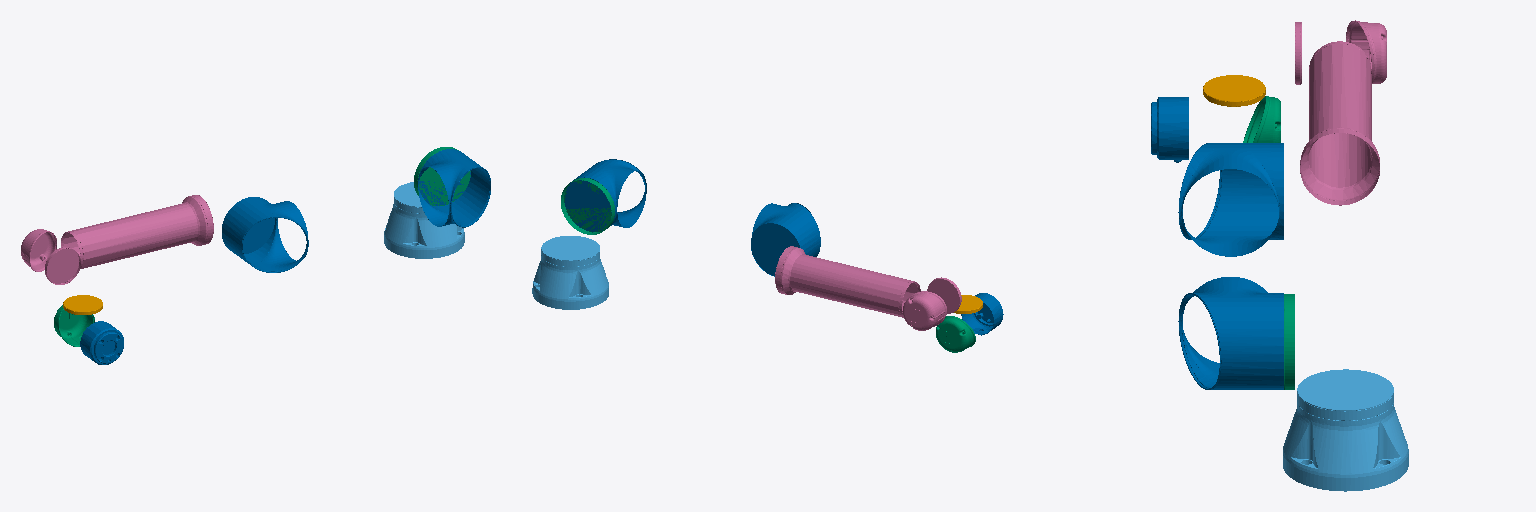
URDF robot description (converted_robot):
<?xml version="1.0" ?>
<robot name="converted_robot">
   <!--generated with mjcf_urdf_simple_converter (https://github.com/Yasu31/mjcf_urdf_simple_converter)-->
   <link name="world">
      <inertial>
         <origin xyz="0.0 0.0 0.0" rpy="0.0 0.0 0.0"/>
         <mass value="0.0"/>
         <inertia ixx="0.0" iyy="0.0" izz="0.0" ixy="0" ixz="0" iyz="0"/>
      </inertial>
   </link>
   <link name="base">
      <inertial>
         <origin xyz="0.0 0.0 0.0" rpy="0.0 0.0 0.0"/>
         <mass value="4.0"/>
         <inertia ixx="0.00443333156" iyy="0.00443333156" izz="0.0072" ixy="0" ixz="0" iyz="0"/>
      </inertial>
      <visual name="base_0">
         <origin xyz="6.729318621181485e-07 -3.6596373548373673e-07 0.09357351429819695" rpy="-1.5707963267948966 -1.5707857113515709 3.141592653589793"/>
         <geometry>
            <mesh filename="meshes/base_0.obj"/>
         </geometry>
      </visual>
      <visual name="base_1">
         <origin xyz="1.503945707798981e-07 5.030274644771805e-07 0.03113409206125086" rpy="-1.399528539771004 -1.5707749404564806 -1.0870925788402255"/>
         <geometry>
            <mesh filename="meshes/base_1.obj"/>
         </geometry>
      </visual>
   </link>
   <joint type="fixed" name="world2base_fixed">
      <parent link="world"/>
      <child link="base"/>
      <origin xyz="0.0 0.0 0.0" rpy="0.0 0.0 3.141592653589793"/>
   </joint>
   <link name="shoulder_link">
      <inertial>
         <origin xyz="0.0 0.0 0.0" rpy="0.0 0.0 0.0"/>
         <mass value="3.7"/>
         <inertia ixx="0.0102675" iyy="0.0102675" izz="0.00666" ixy="0" ixz="0" iyz="0"/>
      </inertial>
      <visual name="shoulder_0">
         <origin xyz="0.0001579198071144923 -0.008422927154951222 0.04825544244212041" rpy="2.9720573015818483 -1.2403403911528637 -1.566448043192206"/>
         <geometry>
            <mesh filename="meshes/shoulder_0.obj"/>
         </geometry>
      </visual>
      <visual name="shoulder_1">
         <origin xyz="1.0217402531697843e-06 0.06888462521467517 -0.000503284068890808" rpy="0.16995490760307885 -1.5623390598795694e-05 1.5708061595614313"/>
         <geometry>
            <mesh filename="meshes/shoulder_1.obj"/>
         </geometry>
      </visual>
      <visual name="shoulder_2">
         <origin xyz="-4.987106654918215e-05 0.0005636150374333556 -0.01875771782384345" rpy="1.6252859977178944 0.74319992894974 1.5734657987361387"/>
         <geometry>
            <mesh filename="meshes/shoulder_2.obj"/>
         </geometry>
      </visual>
   </link>
   <link name="shoulder_pan_joint_jointbody">
      <inertial>
         <origin xyz="0.0 0.0 0.0" rpy="0.0 0.0 0.0"/>
         <mass value="0.001"/>
         <inertia ixx="1e-09" iyy="1e-09" izz="1e-09" ixy="0" ixz="0" iyz="0"/>
      </inertial>
   </link>
   <joint type="revolute" name="shoulder_pan_joint">
      <parent link="base"/>
      <child link="shoulder_pan_joint_jointbody"/>
      <origin xyz="0.0 0.0 0.163" rpy="0.0 0.0 0.0"/>
      <axis xyz="0.0 0.0 1.0"/>
      <limit lower="-6.28319" upper="6.28319" effort="100" velocity="100"/>
   </joint>
   <joint type="fixed" name="shoulder_pan_joint_offset">
      <parent link="shoulder_pan_joint_jointbody"/>
      <child link="shoulder_link"/>
      <origin xyz="-0.0 -0.0 -0.0" rpy="0.0 0.0 0.0"/>
   </joint>
   <link name="upper_arm_link">
      <inertial>
         <origin xyz="0.0 0.0 0.2125" rpy="0.0 0.0 0.0"/>
         <mass value="8.393"/>
         <inertia ixx="0.133886" iyy="0.133886" izz="0.0151074" ixy="0" ixz="0" iyz="0"/>
      </inertial>
      <visual name="upperarm_0">
         <origin xyz="-3.5760986999942557e-06 -0.00019999979744521934 0.2121351784520985" rpy="-0.00033054302069512875 -1.4933708105679955e-06 -0.35514353174096286"/>
         <geometry>
            <mesh filename="meshes/upperarm_0.obj"/>
         </geometry>
      </visual>
      <visual name="upperarm_1">
         <origin xyz="-7.532369564797005e-07 -0.02455902448126744 0.29812745654549255" rpy="0.17716174242397165 7.967832782251882e-05 -0.00048191154196722263"/>
         <geometry>
            <mesh filename="meshes/upperarm_1.obj"/>
         </geometry>
      </visual>
      <visual name="upperarm_2">
         <origin xyz="1.2475330963946302e-05 -0.020613766332852907 0.21354779205990887" rpy="-4.279076197777343e-05 -0.00939633188786626 1.5726071086918691"/>
         <geometry>
            <mesh filename="meshes/upperarm_2.obj"/>
         </geometry>
      </visual>
      <visual name="upperarm_3">
         <origin xyz="-1.6738822332805943e-05 0.04530972332900902 0.21224046110461658" rpy="-1.1169861401483239e-05 -0.00033473145213402944 1.5712747113366192"/>
         <geometry>
            <mesh filename="meshes/upperarm_3.obj"/>
         </geometry>
      </visual>
   </link>
   <link name="shoulder_lift_joint_jointbody">
      <inertial>
         <origin xyz="0.0 0.0 0.0" rpy="0.0 0.0 0.0"/>
         <mass value="0.001"/>
         <inertia ixx="1e-09" iyy="1e-09" izz="1e-09" ixy="0" ixz="0" iyz="0"/>
      </inertial>
   </link>
   <joint type="revolute" name="shoulder_lift_joint">
      <parent link="shoulder_link"/>
      <child link="shoulder_lift_joint_jointbody"/>
      <origin xyz="0.0 0.138 0.0" rpy="-0.0 1.5707963267948966 0.0"/>
      <axis xyz="0.0 1.0 0.0"/>
      <limit lower="-6.28319" upper="6.28319" effort="100" velocity="100"/>
   </joint>
   <joint type="fixed" name="shoulder_lift_joint_offset">
      <parent link="shoulder_lift_joint_jointbody"/>
      <child link="upper_arm_link"/>
      <origin xyz="-0.0 -0.0 -0.0" rpy="0.0 0.0 0.0"/>
   </joint>
   <link name="forearm_link">
      <inertial>
         <origin xyz="0.0 0.0 0.196" rpy="0.0 0.0 0.0"/>
         <mass value="2.275"/>
         <inertia ixx="0.0311796" iyy="0.0311796" izz="0.004095" ixy="0" ixz="0" iyz="0"/>
      </inertial>
      <visual name="forearm_0">
         <origin xyz="2.6207363383002557e-05 -0.03986927887408664 0.39588938552993114" rpy="0.14899667064407296 0.3108521731199525 1.5710806045312697"/>
         <geometry>
            <mesh filename="meshes/forearm_0.obj"/>
         </geometry>
      </visual>
      <visual name="forearm_1">
         <origin xyz="-2.3636867243387616e-05 -0.0004340913719860277 0.204343083020783" rpy="0.0003357950292532941 -0.0005516154353499836 1.3332982833164047"/>
         <geometry>
            <mesh filename="meshes/forearm_1.obj"/>
         </geometry>
      </visual>
      <visual name="forearm_2">
         <origin xyz="-9.66138589916062e-06 0.016976509028764613 0.25503902118262084" rpy="-0.1463016262272855 0.0006537089324485379 0.004919271858447524"/>
         <geometry>
            <mesh filename="meshes/forearm_2.obj"/>
         </geometry>
      </visual>
      <visual name="forearm_3">
         <origin xyz="2.975142777834475e-06 0.01196066834502387 0.163616824759711" rpy="2.9786105121054618e-05 0.020325139034571116 1.5715676831718508"/>
         <geometry>
            <mesh filename="meshes/forearm_3.obj"/>
         </geometry>
      </visual>
   </link>
   <link name="elbow_joint_jointbody">
      <inertial>
         <origin xyz="0.0 0.0 0.0" rpy="0.0 0.0 0.0"/>
         <mass value="0.001"/>
         <inertia ixx="1e-09" iyy="1e-09" izz="1e-09" ixy="0" ixz="0" iyz="0"/>
      </inertial>
   </link>
   <joint type="revolute" name="elbow_joint">
      <parent link="upper_arm_link"/>
      <child link="elbow_joint_jointbody"/>
      <origin xyz="0.0 -0.131 0.425" rpy="0.0 0.0 0.0"/>
      <axis xyz="0.0 1.0 0.0"/>
      <limit lower="-3.1415" upper="3.1415" effort="100" velocity="100"/>
   </joint>
   <joint type="fixed" name="elbow_joint_offset">
      <parent link="elbow_joint_jointbody"/>
      <child link="forearm_link"/>
      <origin xyz="-0.0 -0.0 -0.0" rpy="0.0 0.0 0.0"/>
   </joint>
   <link name="wrist_1_link">
      <inertial>
         <origin xyz="0.0 0.127 0.0" rpy="0.0 0.0 0.0"/>
         <mass value="1.219"/>
         <inertia ixx="0.0025599" iyy="0.0025599" izz="0.0021942" ixy="0" ixz="0" iyz="0"/>
      </inertial>
      <visual name="wrist1_0">
         <origin xyz="-2.324752008885248e-05 0.12628514044400524 0.04897505972393637" rpy="-1.5707963267955911 -1.5705970679188206 -1.169748682409278"/>
         <geometry>
            <mesh filename="meshes/wrist1_0.obj"/>
         </geometry>
      </visual>
      <visual name="wrist1_1">
         <origin xyz="-3.6644583695254237e-05 0.13040179162514767 -0.039703488567445454" rpy="-3.0659680894269 -1.2613429633090303 -1.5694033802823593"/>
         <geometry>
            <mesh filename="meshes/wrist1_1.obj"/>
         </geometry>
      </visual>
      <visual name="wrist1_2">
         <origin xyz="-2.0990614937820244e-06 0.11289621711604998 0.012388333942626797" rpy="-3.1400977441796236 -1.0305077756151968 -1.572331006823194"/>
         <geometry>
            <mesh filename="meshes/wrist1_2.obj"/>
         </geometry>
      </visual>
   </link>
   <link name="wrist_1_joint_jointbody">
      <inertial>
         <origin xyz="0.0 0.0 0.0" rpy="0.0 0.0 0.0"/>
         <mass value="0.001"/>
         <inertia ixx="1e-09" iyy="1e-09" izz="1e-09" ixy="0" ixz="0" iyz="0"/>
      </inertial>
   </link>
   <joint type="revolute" name="wrist_1_joint">
      <parent link="forearm_link"/>
      <child link="wrist_1_joint_jointbody"/>
      <origin xyz="0.0 0.0 0.392" rpy="-0.0 1.5707963267948966 0.0"/>
      <axis xyz="0.0 1.0 0.0"/>
      <limit lower="-6.28319" upper="6.28319" effort="100" velocity="100"/>
   </joint>
   <joint type="fixed" name="wrist_1_joint_offset">
      <parent link="wrist_1_joint_jointbody"/>
      <child link="wrist_1_link"/>
      <origin xyz="-0.0 -0.0 -0.0" rpy="0.0 0.0 0.0"/>
   </joint>
   <link name="wrist_2_link">
      <inertial>
         <origin xyz="0.0 0.0 0.1" rpy="0.0 0.0 0.0"/>
         <mass value="1.219"/>
         <inertia ixx="0.0025599" iyy="0.0025599" izz="0.0021942" ixy="0" ixz="0" iyz="0"/>
      </inertial>
      <visual name="wrist2_0">
         <origin xyz="-3.8001937811610543e-06 0.04853645611151084 0.09943580433195488" rpy="0.17748605449059573 0.0 1.5707963267948966"/>
         <geometry>
            <mesh filename="meshes/wrist2_0.obj"/>
         </geometry>
      </visual>
      <visual name="wrist2_1">
         <origin xyz="3.169640163593594e-05 -0.040206055715980675 0.10359119935436584" rpy="0.11116566518449311 0.3094663745829749 1.5711748623937276"/>
         <geometry>
            <mesh filename="meshes/wrist2_1.obj"/>
         </geometry>
      </visual>
      <visual name="wrist2_2">
         <origin xyz="9.000191078913615e-07 0.016056655860314212 0.09663180277604577" rpy="-3.1411058592901813 -0.8028357577556227 -1.5708829412270986"/>
         <geometry>
            <mesh filename="meshes/wrist2_2.obj"/>
         </geometry>
      </visual>
   </link>
   <link name="wrist_2_joint_jointbody">
      <inertial>
         <origin xyz="0.0 0.0 0.0" rpy="0.0 0.0 0.0"/>
         <mass value="0.001"/>
         <inertia ixx="1e-09" iyy="1e-09" izz="1e-09" ixy="0" ixz="0" iyz="0"/>
      </inertial>
   </link>
   <joint type="revolute" name="wrist_2_joint">
      <parent link="wrist_1_link"/>
      <child link="wrist_2_joint_jointbody"/>
      <origin xyz="0.0 0.127 0.0" rpy="0.0 0.0 0.0"/>
      <axis xyz="0.0 0.0 1.0"/>
      <limit lower="-6.28319" upper="6.28319" effort="100" velocity="100"/>
   </joint>
   <joint type="fixed" name="wrist_2_joint_offset">
      <parent link="wrist_2_joint_jointbody"/>
      <child link="wrist_2_link"/>
      <origin xyz="-0.0 -0.0 -0.0" rpy="0.0 0.0 0.0"/>
   </joint>
   <link name="wrist_3_link">
      <inertial>
         <origin xyz="0.0 0.0771683 0.0" rpy="0.0 0.0 1.5707963267948963"/>
         <mass value="0.1889"/>
         <inertia ixx="0.000132134" iyy="9.90863e-05" izz="9.90863e-05" ixy="0" ixz="0" iyz="0"/>
      </inertial>
      <visual name="wrist3">
         <origin xyz="1.3730314416336136e-05 0.07930911124904105 -0.0005378684357207328" rpy="0.22605647583783017 0.004863637106366836 1.5703149375099286"/>
         <geometry>
            <mesh filename="meshes/wrist3.obj"/>
         </geometry>
      </visual>
   </link>
   <link name="wrist_3_joint_jointbody">
      <inertial>
         <origin xyz="0.0 0.0 0.0" rpy="0.0 0.0 0.0"/>
         <mass value="0.001"/>
         <inertia ixx="1e-09" iyy="1e-09" izz="1e-09" ixy="0" ixz="0" iyz="0"/>
      </inertial>
   </link>
   <joint type="revolute" name="wrist_3_joint">
      <parent link="wrist_2_link"/>
      <child link="wrist_3_joint_jointbody"/>
      <origin xyz="0.0 0.0 0.1" rpy="0.0 0.0 0.0"/>
      <axis xyz="0.0 1.0 0.0"/>
      <limit lower="-6.28319" upper="6.28319" effort="100" velocity="100"/>
   </joint>
   <joint type="fixed" name="wrist_3_joint_offset">
      <parent link="wrist_3_joint_jointbody"/>
      <child link="wrist_3_link"/>
      <origin xyz="-0.0 -0.0 -0.0" rpy="0.0 0.0 0.0"/>
   </joint>
</robot>

--- Render facts (derived) ---
The picture shows the robot from 3 angles, left to right: view 1: azimuth 30°, elevation 25°; view 2: azimuth 150°, elevation 25°; view 3: azimuth 270°, elevation 25°; orthographic projection.
Robot: converted_robot — 14 links, 13 joints (6 revolute, 7 fixed); root link world; default pose: all joints at 0.
Visible links, largest first — view 1: forearm_link, upper_arm_link, base, wrist_3_link, shoulder_link, wrist_2_link, wrist_1_link; view 2: forearm_link, upper_arm_link, base, shoulder_link, wrist_2_link, wrist_3_link; view 3: upper_arm_link, base, forearm_link, wrist_3_link, wrist_1_link, wrist_2_link, shoulder_link.
Link boxes in pixels (x1,y1,x2,y2): forearm_link: (21, 195, 213, 284); upper_arm_link: (222, 149, 490, 272); base: (384, 182, 464, 258); wrist_3_link: (80, 321, 123, 364); shoulder_link: (414, 147, 470, 205); wrist_2_link: (54, 305, 94, 346); wrist_1_link: (63, 295, 102, 314); forearm_link: (775, 246, 961, 330); upper_arm_link: (564, 159, 820, 276); base: (532, 236, 608, 309); shoulder_link: (561, 178, 614, 234); wrist_2_link: (936, 316, 975, 352); wrist_3_link: (961, 293, 1003, 335); upper_arm_link: (1178, 143, 1283, 389); base: (1283, 369, 1408, 491); forearm_link: (1295, 20, 1386, 205); wrist_3_link: (1151, 97, 1188, 162); wrist_1_link: (1203, 75, 1265, 106); wrist_2_link: (1243, 96, 1280, 142); shoulder_link: (1284, 294, 1294, 389).
Bounding box of the posed robot: 0.9318 × 0.3085 × 0.2213 m (x, y, z).
10 mesh visuals loaded from 20 distinct referenced files (10 OBJ); not drawn: 10 (reference not matched to a file when rendering).